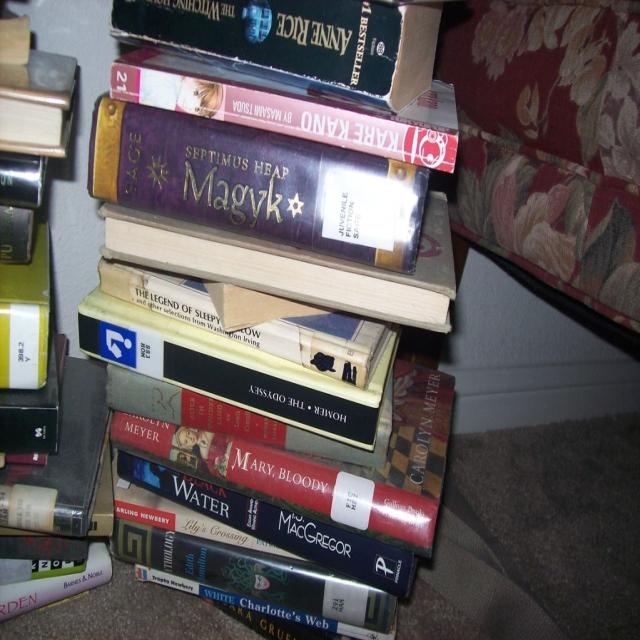book: (96, 100, 429, 269), (113, 412, 434, 554), (122, 449, 412, 595), (78, 312, 378, 444), (107, 61, 458, 168), (121, 519, 386, 631)
